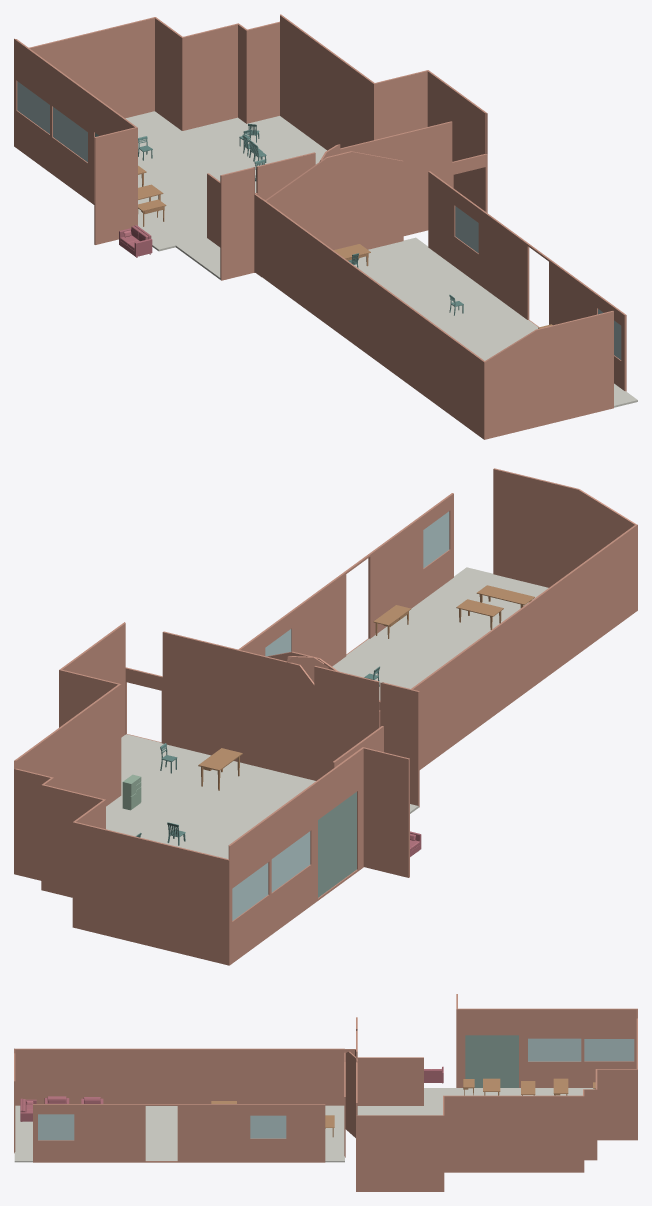
The model's file is venue-threejs-cutaway.glb.
3 renders of one model, top to bottom at view 1: azimuth 30°, elevation 25°; view 2: azimuth 150°, elevation 25°; view 3: azimuth 270°, elevation 25°, orthographic. The views are drawn at different scales.
Parts seen in each view (by area): view 1: Wall_6, Floor_Dining_Room_1, Wall_25, Wall_23, Floor_Living_Room, Wall_3, Wall_7, Wall_26, Wall_11, Wall_24, Wall_1, Wall_4 (+15 smaller); view 2: Wall_6, Wall_11, Wall_24, Wall_7, Wall_25, Wall_23, Floor_Living_Room, Floor_Dining_Room_2, Wall_3, Wall_4, Wall_16, Floor_Dining_Room_1 (+11 smaller); view 3: Wall_6, Wall_23, Wall_3, Wall_7, Wall_10, Floor_Living_Room, Wall_15, Wall_18, Door_0, Window_1, Floor_Dining_Room_1, Window_0 (+6 smaller).
Part boxes in pixels (bbox=[...]): Wall_6: bbox=[261, 199, 484, 439]; Floor_Dining_Room_1: bbox=[125, 111, 326, 279]; Wall_25: bbox=[484, 311, 613, 439]; Wall_23: bbox=[428, 171, 626, 391]; Floor_Living_Room: bbox=[354, 237, 637, 407]; Wall_3: bbox=[280, 14, 374, 150]; Wall_7: bbox=[14, 38, 137, 204]; Wall_26: bbox=[319, 151, 403, 249]; Wall_11: bbox=[29, 17, 154, 118]; Wall_24: bbox=[340, 121, 487, 235]; Wall_1: bbox=[182, 23, 238, 130]; Wall_4: bbox=[94, 127, 137, 244]; Wall_6: bbox=[411, 524, 637, 769]; Wall_11: bbox=[72, 822, 229, 965]; Wall_24: bbox=[125, 631, 286, 773]; Wall_7: bbox=[229, 747, 363, 965]; Wall_25: bbox=[493, 468, 636, 587]; Wall_23: bbox=[238, 493, 453, 666]; Floor_Living_Room: bbox=[332, 567, 548, 700]; Floor_Dining_Room_2: bbox=[121, 734, 315, 827]; Wall_3: bbox=[14, 684, 121, 806]; Wall_4: bbox=[363, 747, 409, 877]; Wall_16: bbox=[287, 662, 328, 780]; Floor_Dining_Room_1: bbox=[106, 796, 418, 858]; Wall_6: bbox=[15, 1048, 344, 1105]; Wall_23: bbox=[33, 1104, 325, 1162]; Wall_3: bbox=[443, 1095, 584, 1172]; Wall_7: bbox=[456, 1008, 637, 1087]; Wall_10: bbox=[356, 1115, 444, 1191]; Floor_Living_Room: bbox=[14, 1105, 344, 1162]; Wall_15: bbox=[357, 1057, 423, 1105]; Wall_18: bbox=[596, 1069, 637, 1140]; Door_0: bbox=[465, 1035, 518, 1087]; Window_1: bbox=[528, 1038, 581, 1061]; Floor_Dining_Room_1: bbox=[424, 1088, 594, 1105]; Window_0: bbox=[584, 1039, 634, 1061].
Size of the model in its own units: 18.76 by 5.94 by 41.96.
